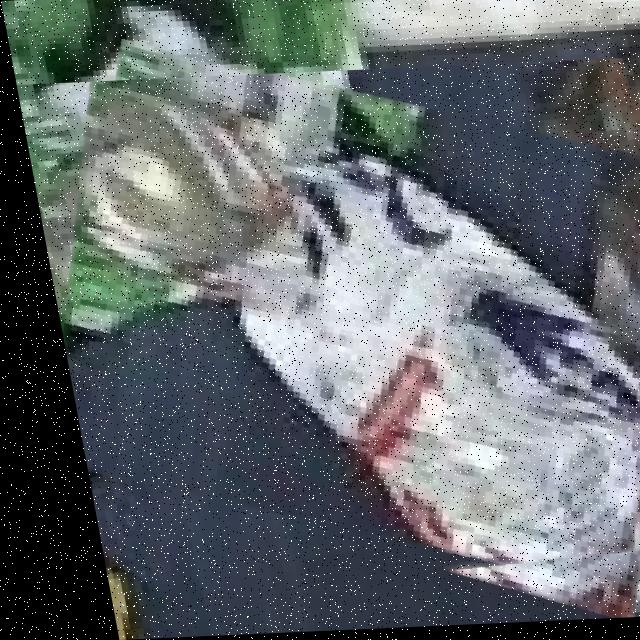litter: (12, 62, 640, 605)
